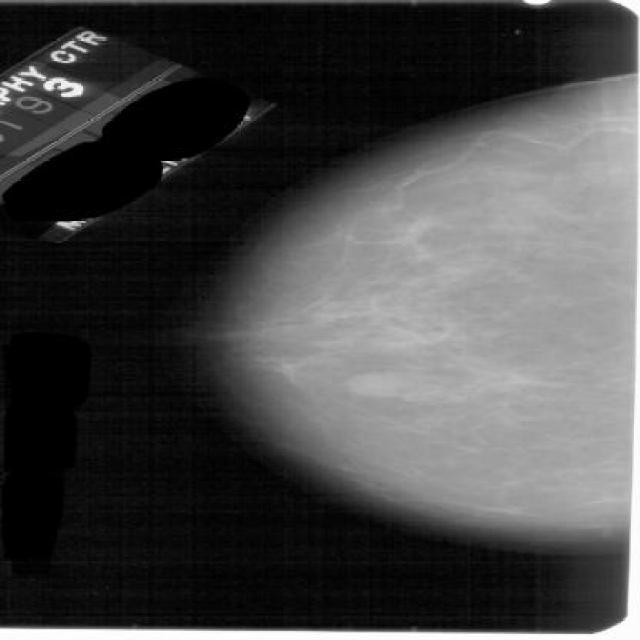tumor: (270, 210, 596, 448)
